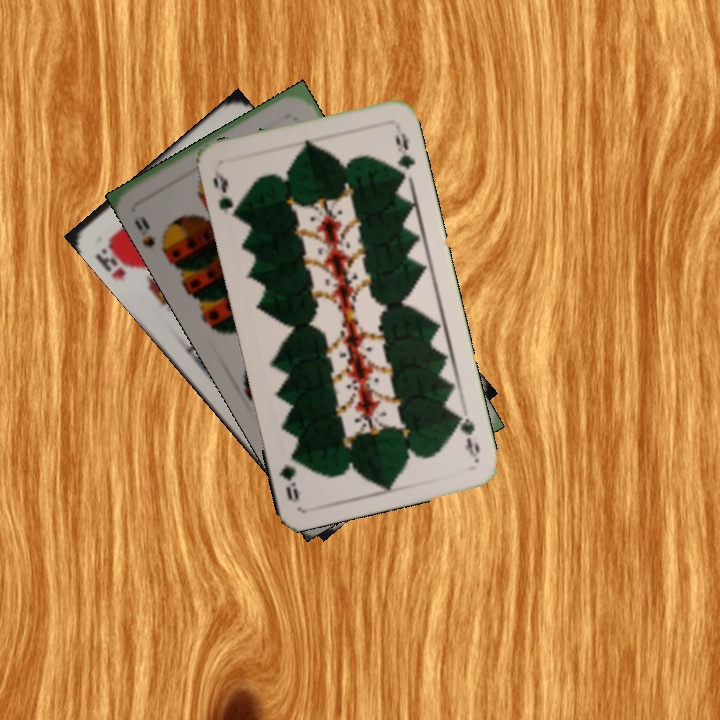G9: (208, 165, 242, 221), (452, 410, 482, 463)
HK: (90, 235, 135, 283)
S9: (136, 213, 168, 258)
